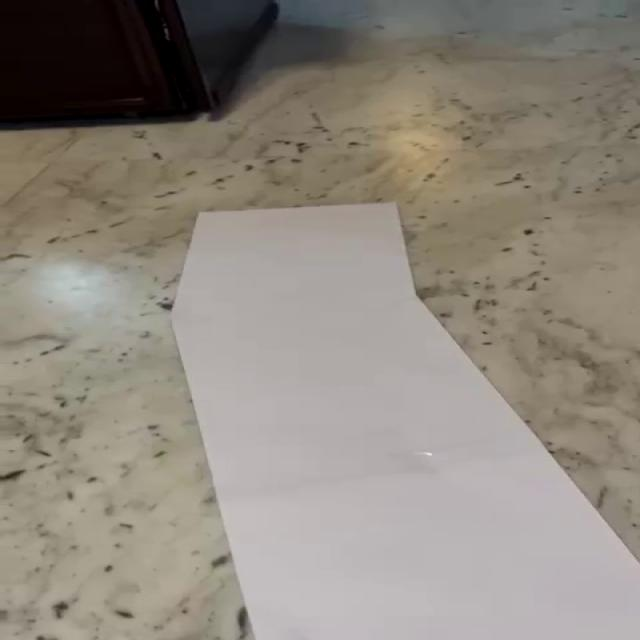road: (172, 203, 638, 640)
